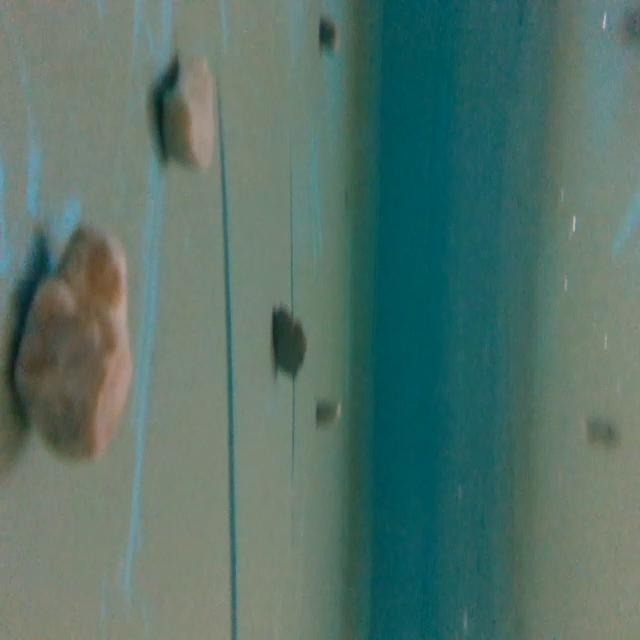rock: (9, 217, 139, 472), (156, 47, 219, 173), (268, 297, 307, 380), (316, 10, 342, 57), (314, 400, 348, 428)
